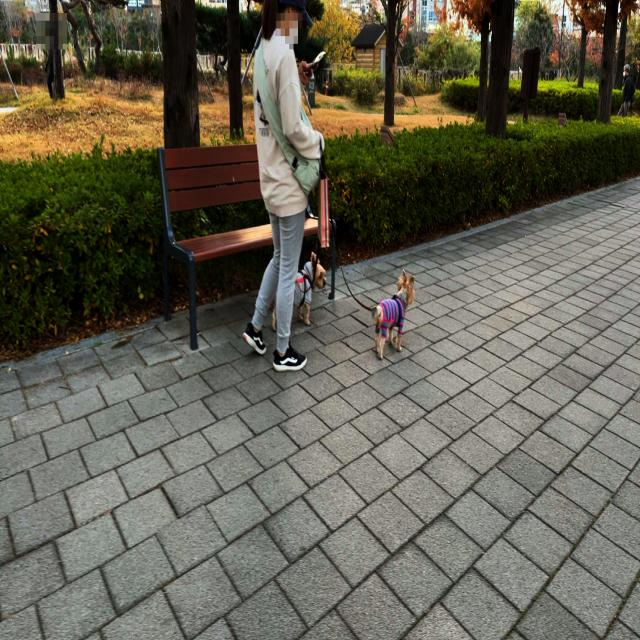Leashed_Dog: (284, 125, 418, 362), (272, 132, 328, 330)
